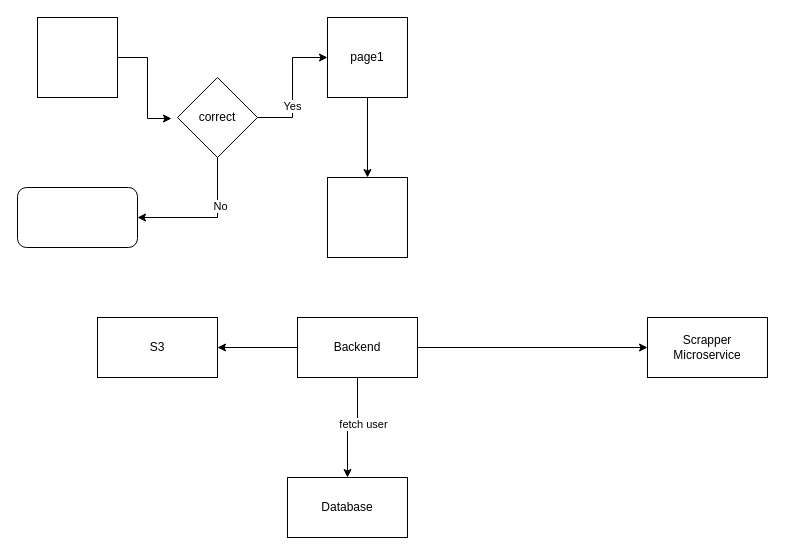
This 785x555 diagram has some shape labels left out. The box of each missing label's shape, as (x1, y1, x2, y2) in pixels:
Download: (326, 176, 408, 258)
login: (36, 16, 118, 98)
Notify: (16, 186, 138, 248)
